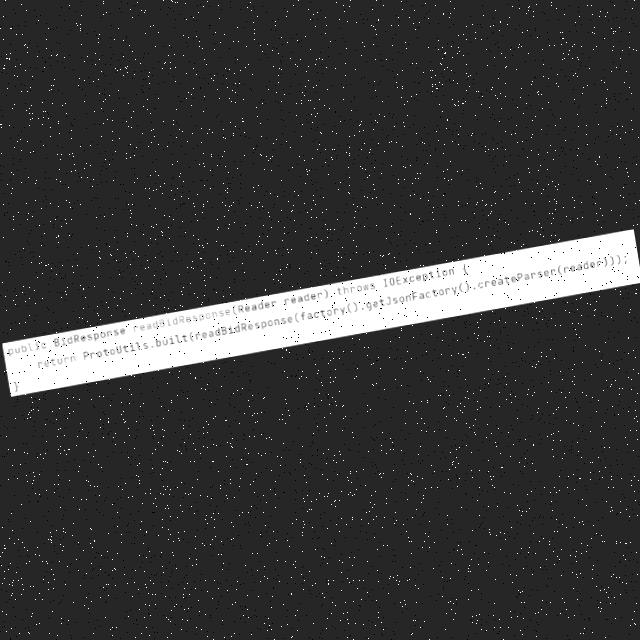code_screen: (3, 230, 640, 396)
